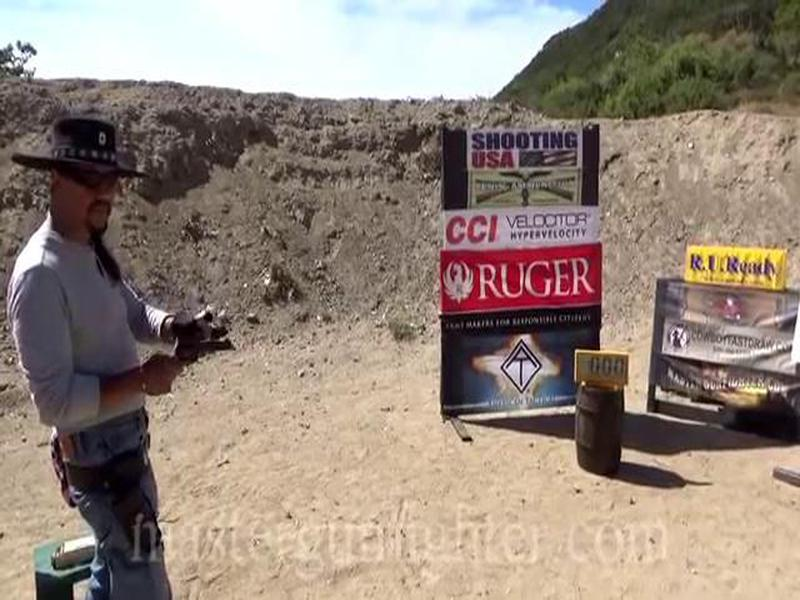Revolver: (142, 335, 250, 396)
